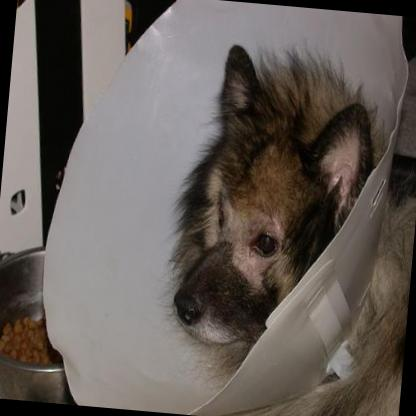keeshond: (152, 36, 416, 416)
